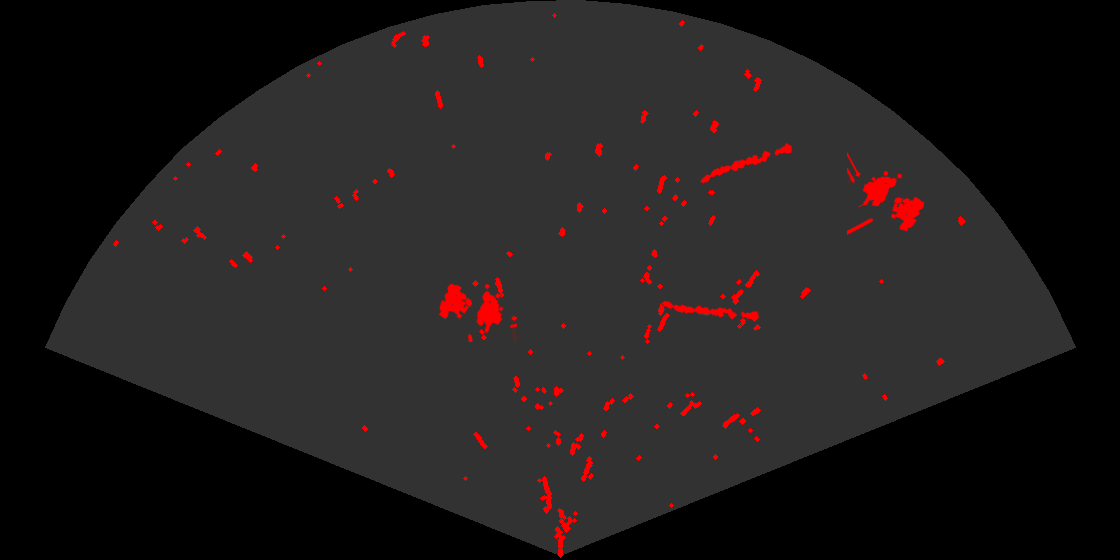cage: (847, 151, 926, 237), (437, 282, 517, 342)
chain: (699, 141, 795, 185), (661, 299, 760, 324)
